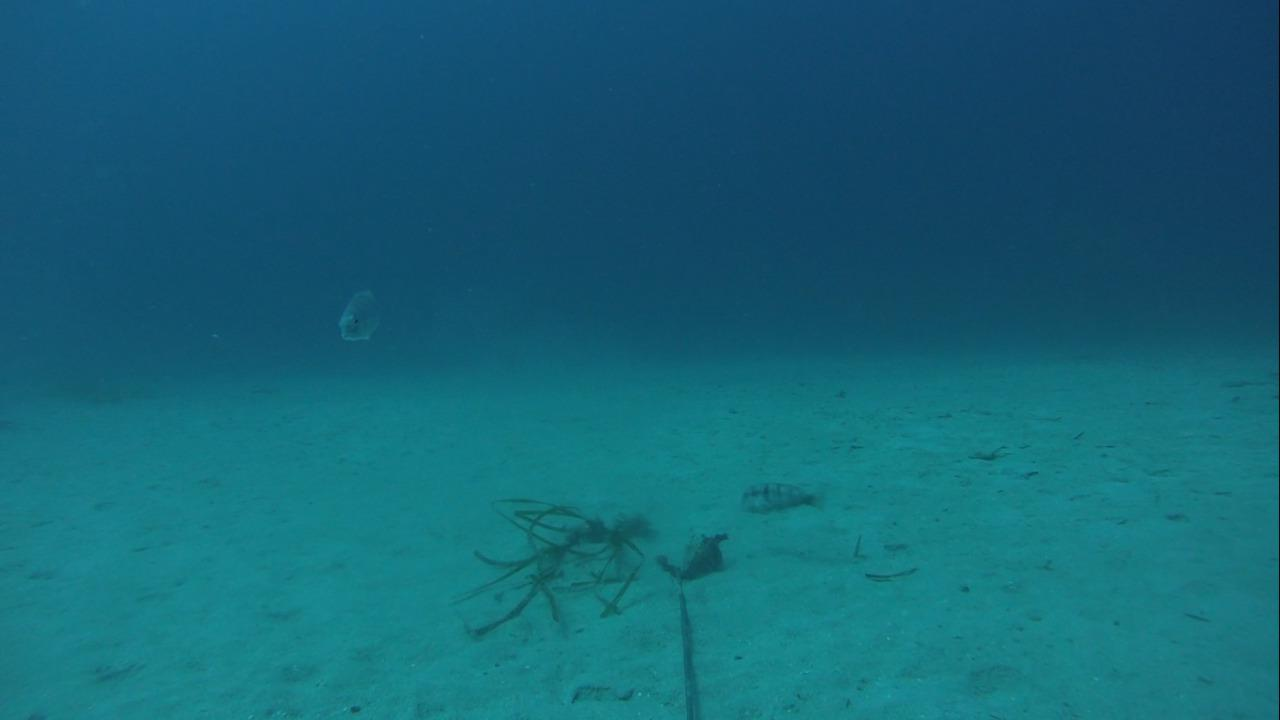pagellus: (328, 282, 393, 347)
raor: (723, 475, 832, 525)
